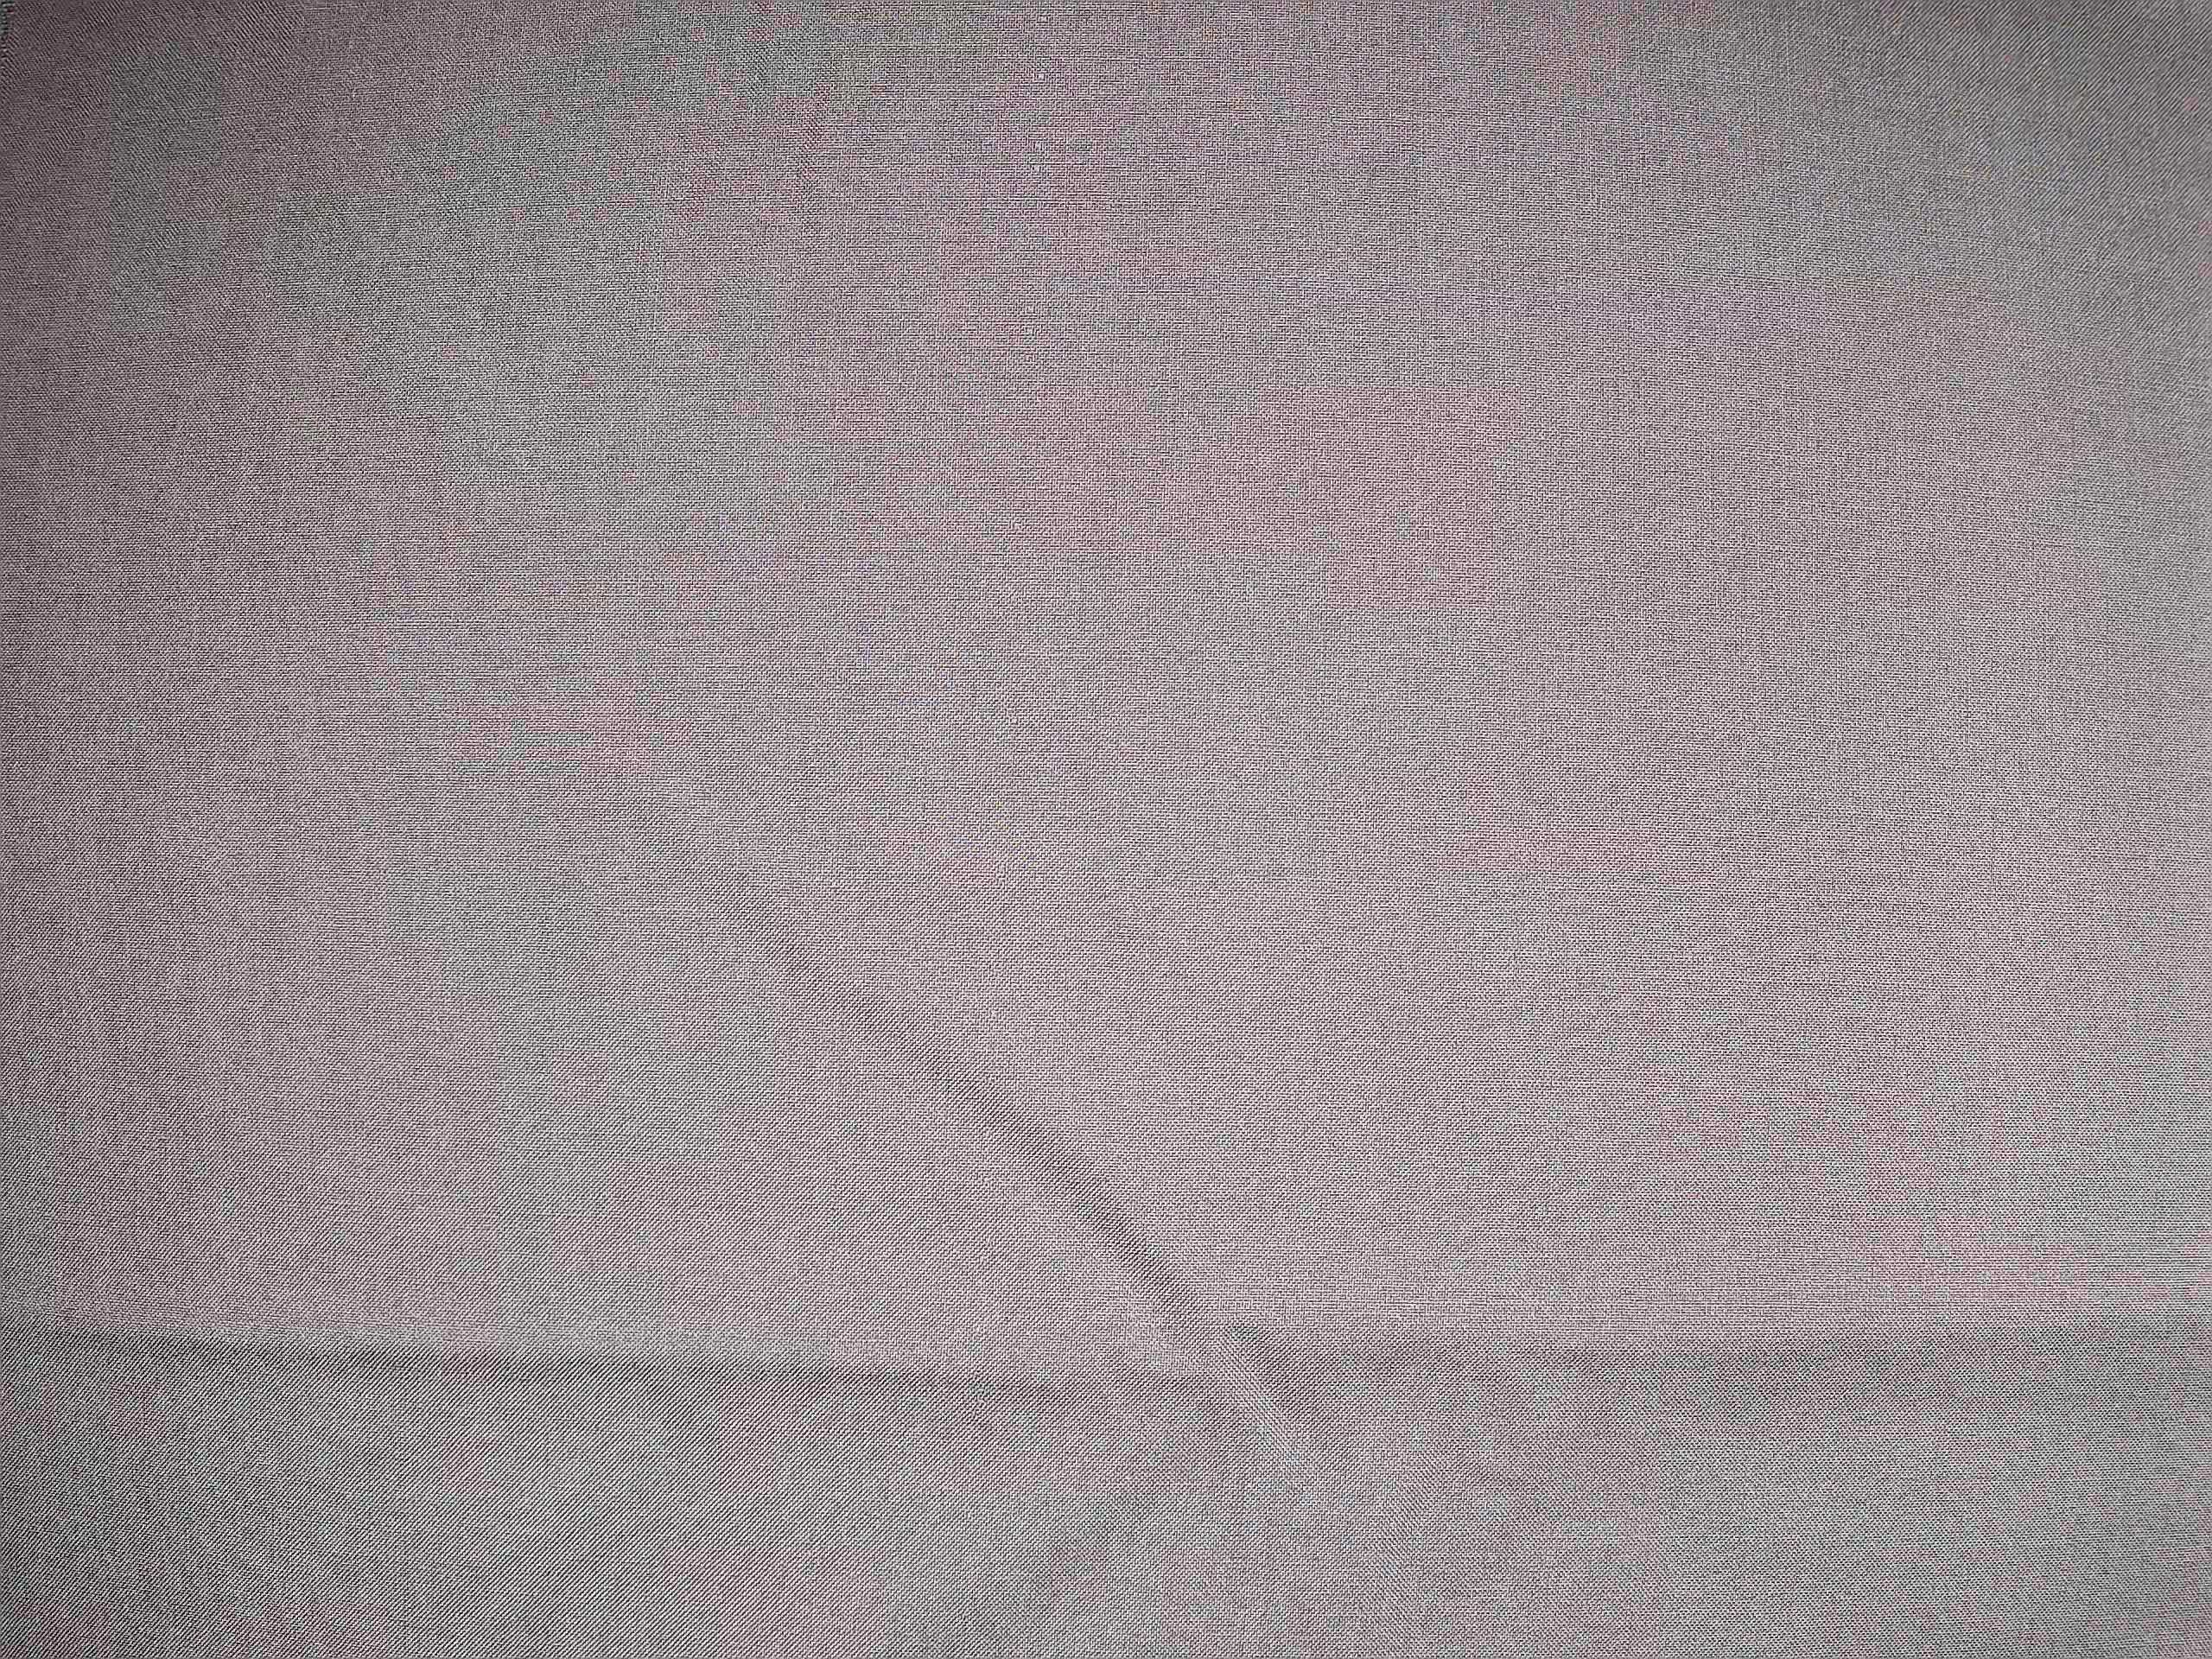jumps: (1017, 9, 1057, 418), (972, 1000, 1005, 1420), (995, 692, 1029, 742)
